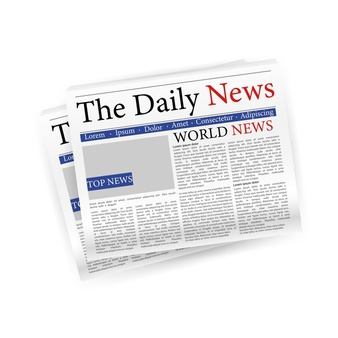news_paper: (23, 46, 315, 302), (60, 66, 316, 319)
